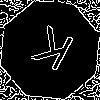K: (25, 25, 77, 81)
